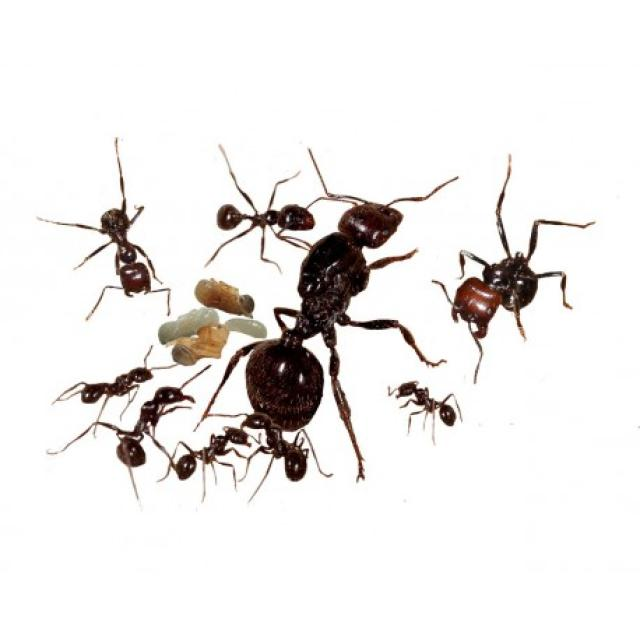ants: (237, 161, 444, 470), (433, 194, 574, 370), (72, 186, 166, 312), (101, 378, 200, 483), (200, 172, 324, 252), (235, 396, 325, 495), (156, 418, 266, 488), (377, 371, 476, 445), (70, 350, 168, 418)
